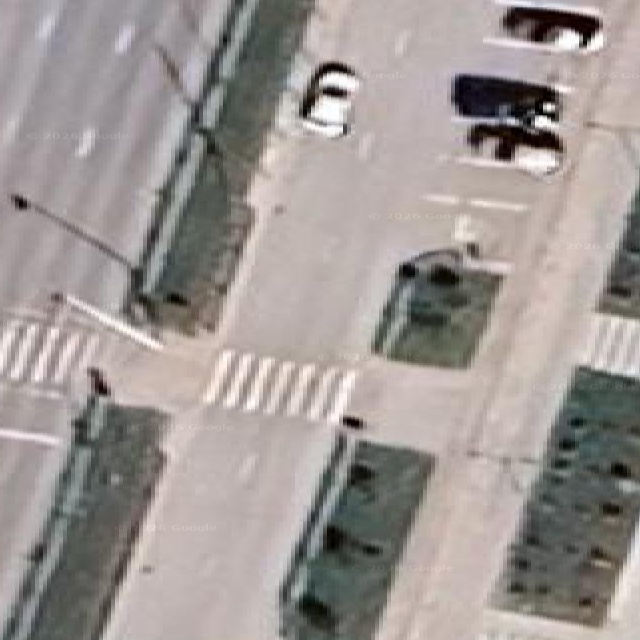car: (451, 74, 562, 125), (499, 0, 604, 52), (466, 123, 563, 175), (299, 62, 359, 137), (341, 415, 365, 429)
